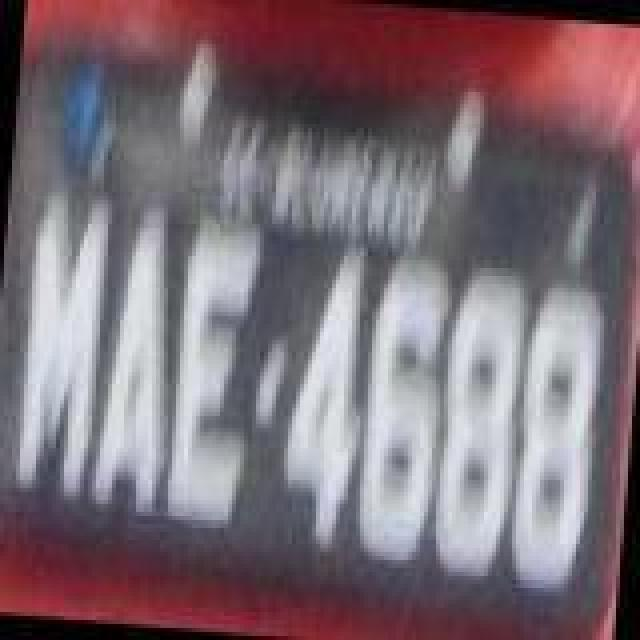4: (276, 230, 380, 554)
6: (352, 254, 456, 570)
8: (506, 282, 614, 598), (428, 262, 532, 586)
A: (88, 198, 192, 522)
E: (164, 224, 268, 536)
M: (12, 184, 116, 504)
